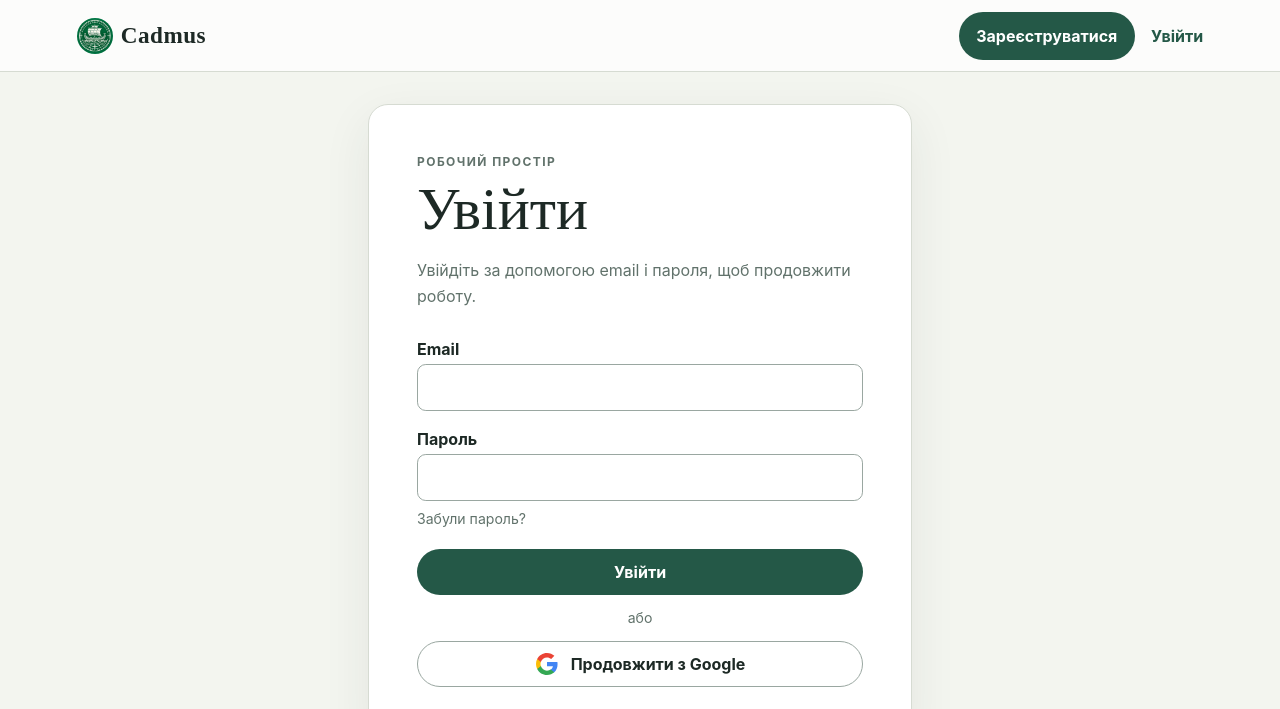
Test case: keeps required and email validation inside Formik without submitting
Expected: the heading "Увійти" is shown, [417,176,588,242]
Click the button "Увійти" at (640, 572), box [417,549,863,595]
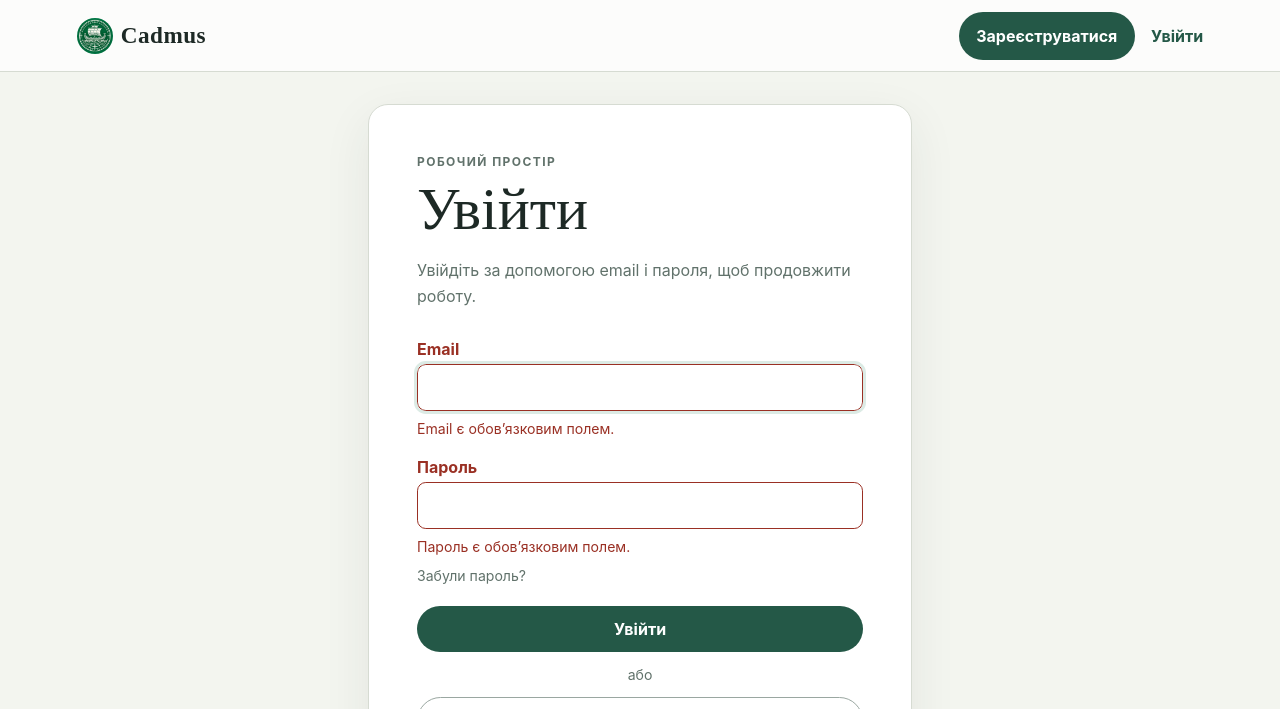
Result: the text "Email є обов’язковим полем." is shown at [417,420,614,437]
Result: the text "Пароль є обов’язковим полем." is shown at [417,538,630,555]
Type "not-an-email" into the field labelled "Email" at (640, 387), box [417,364,863,411]
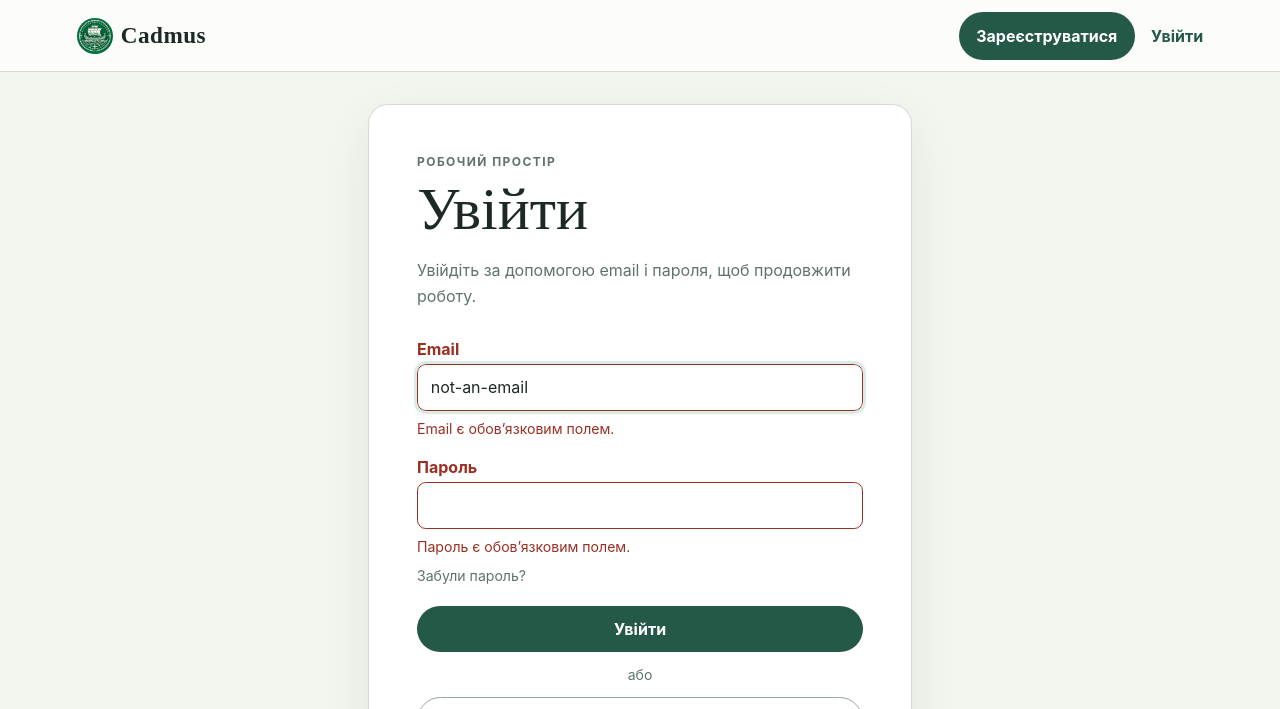
Leave the field labelled "Email", box [417,364,863,411]
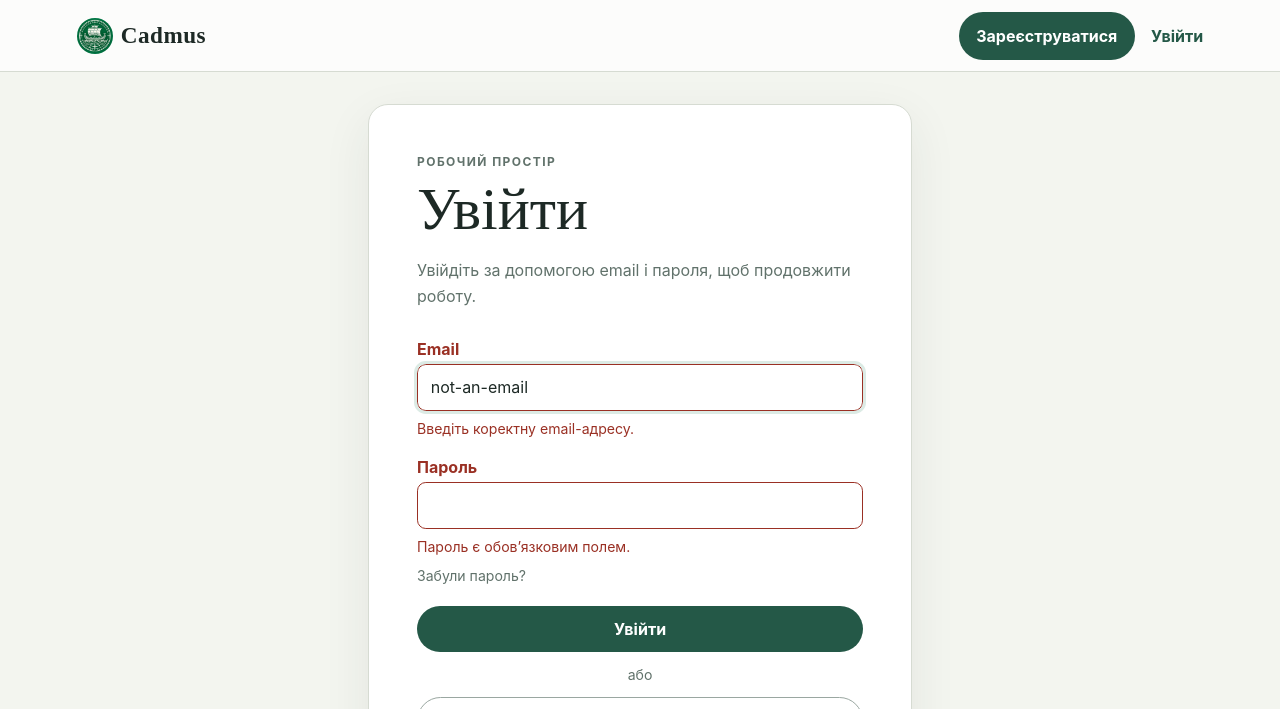
Result: the text "Введіть коректну email-адресу." is shown at [417,420,634,437]
